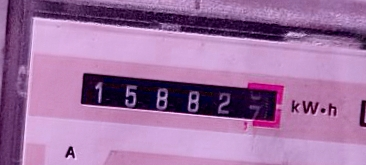1: (92, 78, 106, 105)
2: (215, 90, 233, 116)
5: (122, 82, 139, 109)
7: (246, 102, 262, 120)
8: (153, 85, 172, 111), (185, 88, 202, 114)
screen: (69, 60, 293, 137)
